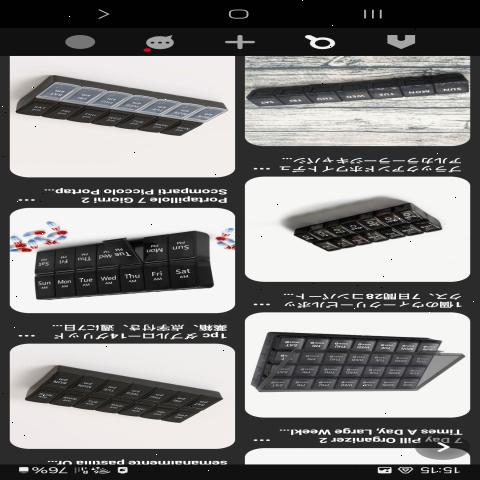PillBox: (22, 349, 220, 441), (9, 68, 222, 150), (252, 322, 458, 406), (268, 192, 458, 269), (16, 231, 229, 299), (248, 72, 474, 120)
